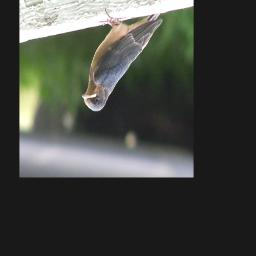Swallow: (81, 7, 163, 112)
